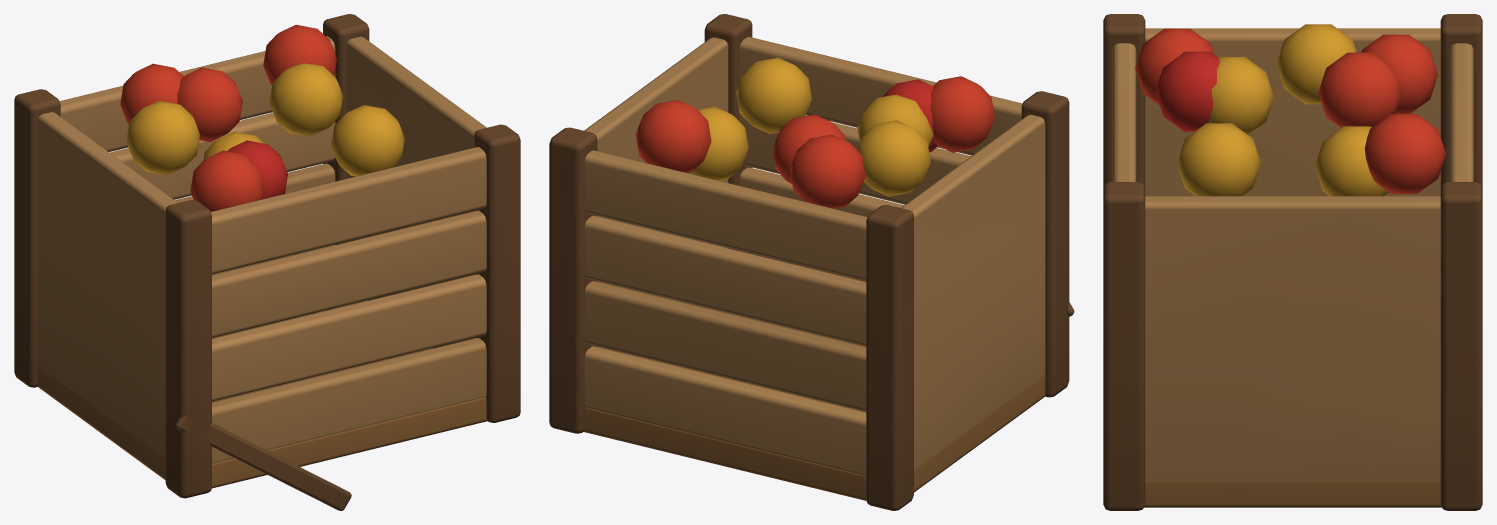
The model's file is crate.glb.
3 views of the same model, side by side, from view 1: azimuth 30°, elevation 25°; view 2: azimuth 150°, elevation 25°; view 3: azimuth 270°, elevation 25° (orthographic). The views are drawn at different scales.
Parts seen in each view (by area): view 1: crate_main; view 2: crate_main; view 3: crate_main.
Boxes of the visible parts, x1,y1,x2,y2 form: crate_main: (14, 14, 520, 510); crate_main: (549, 14, 1074, 510); crate_main: (1103, 14, 1482, 510).
Size of the model in its own units: 0.7387 by 0.7424 by 0.63.
